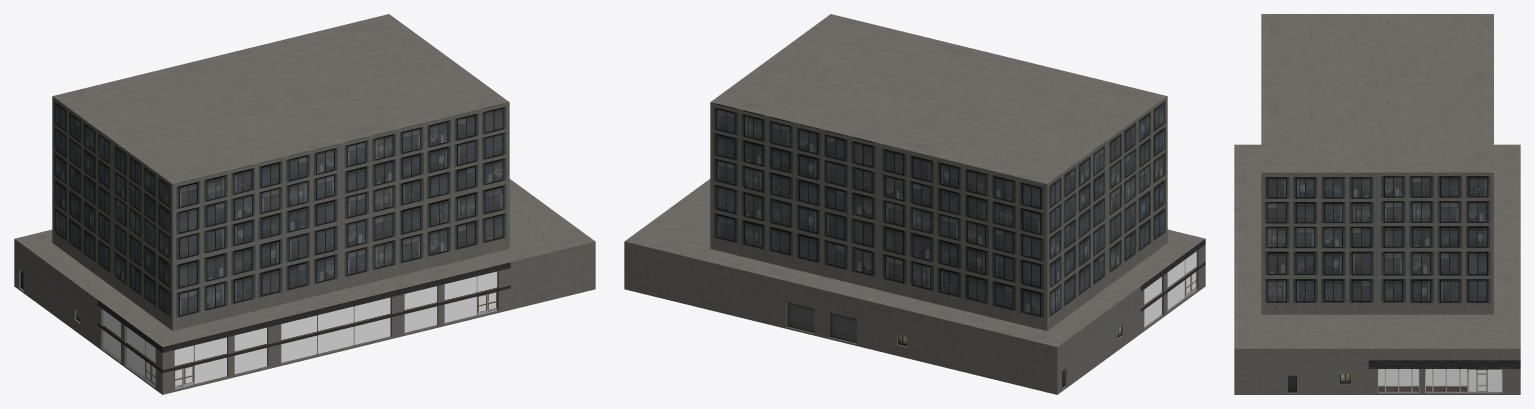
Rendered from office_building_3.fbx.
3 views of the same model, side by side, from view 1: azimuth 30°, elevation 25°; view 2: azimuth 150°, elevation 25°; view 3: azimuth 270°, elevation 25° (orthographic). The views are drawn at different scales.
Parts seen in each view (by area): view 1: office_building_3; view 2: office_building_3; view 3: office_building_3.
Part boxes in pixels (box(x1,y1,x2,y2)): office_building_3: box(14, 14, 595, 394); office_building_3: box(624, 14, 1205, 394); office_building_3: box(1234, 14, 1520, 394).
Bounding box in the file's own units: 5402 × 2320 × 3201.
